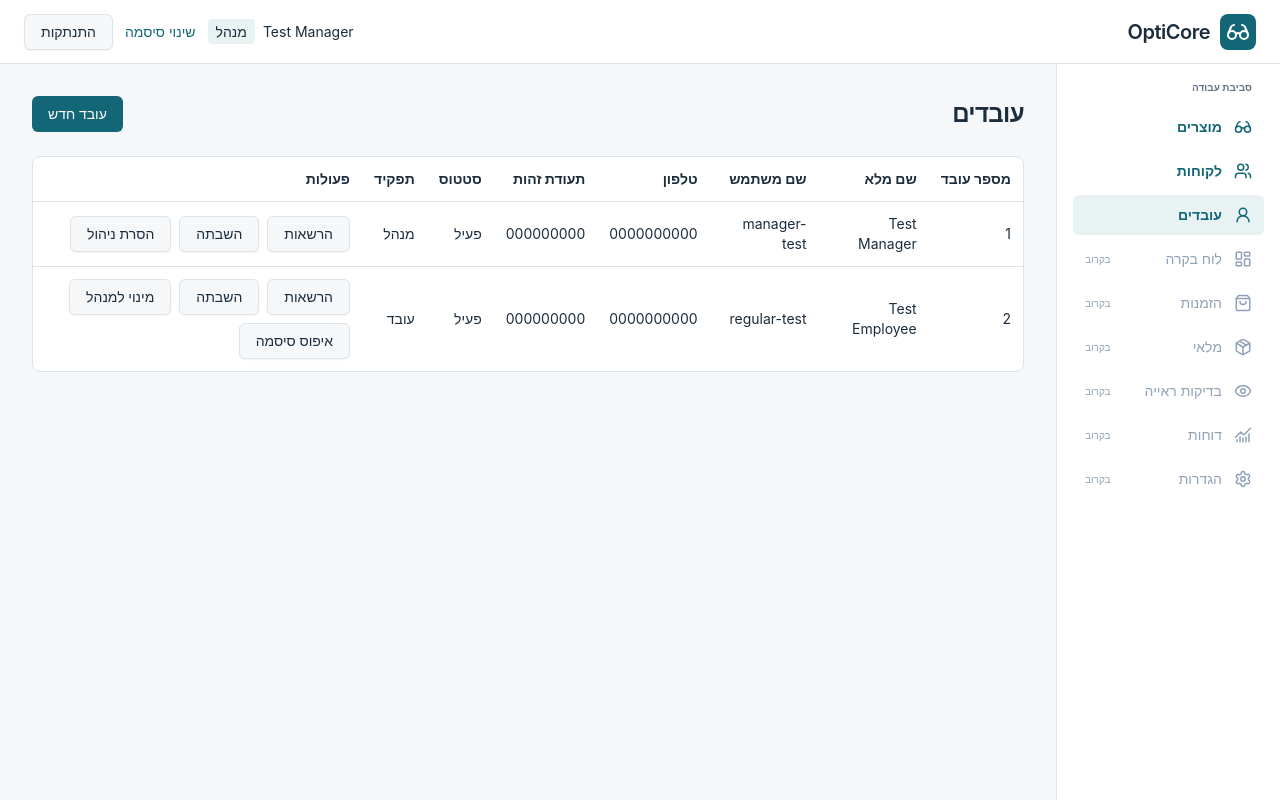
Scenario: shows safe failure feedback without changing assignments 0
Click the button "הרשאות" in the row of "regular-test": click(309, 297) 267,279 -> 350,315
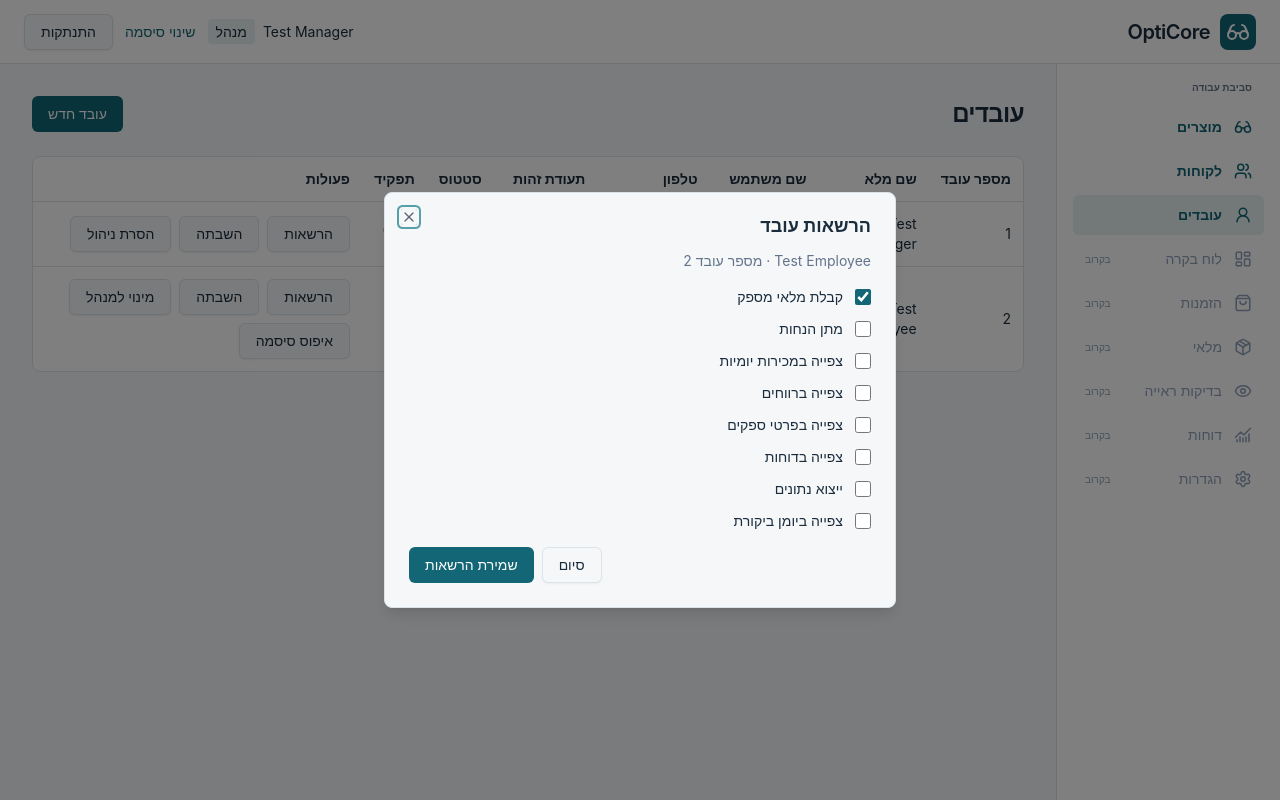
Click the checkbox labelled "צפייה בדוחות": click(863, 457) 855,449 -> 871,465
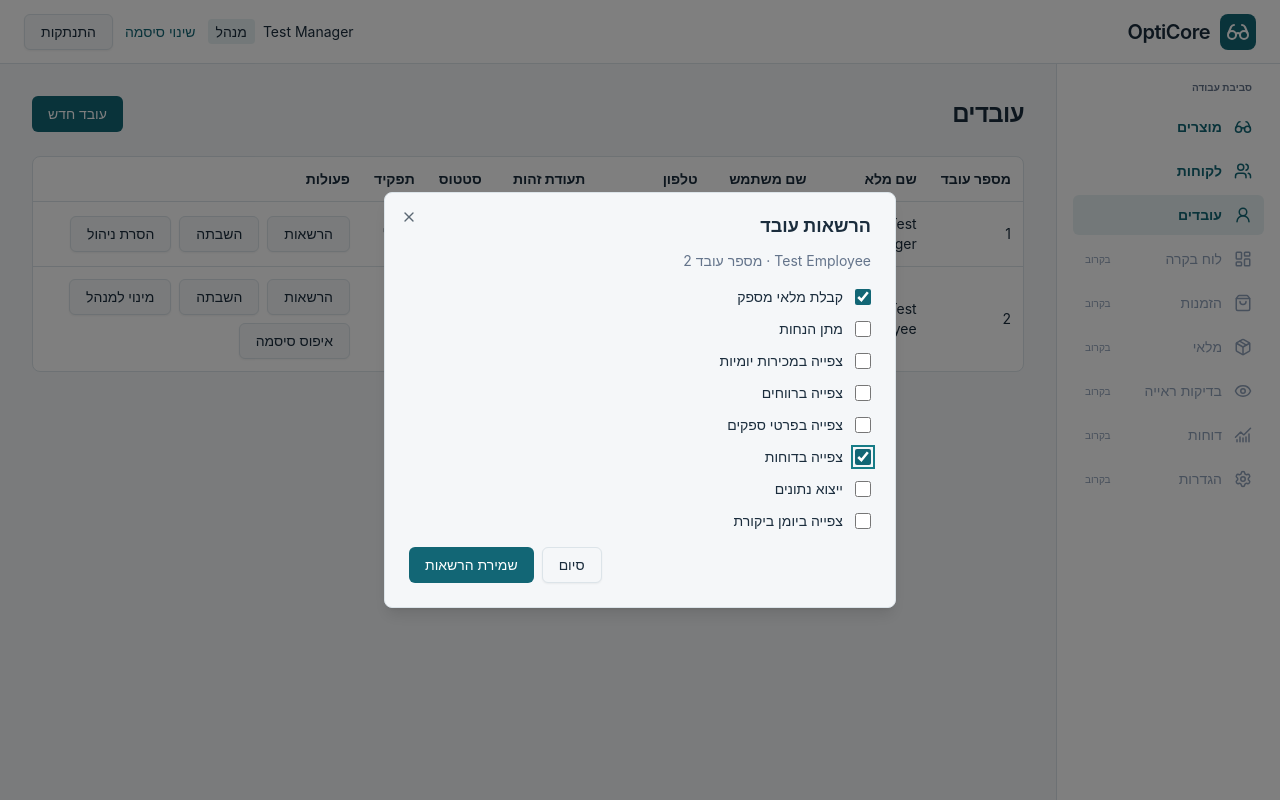
Click the button "שמירת הרשאות": click(471, 565) 409,547 -> 534,583
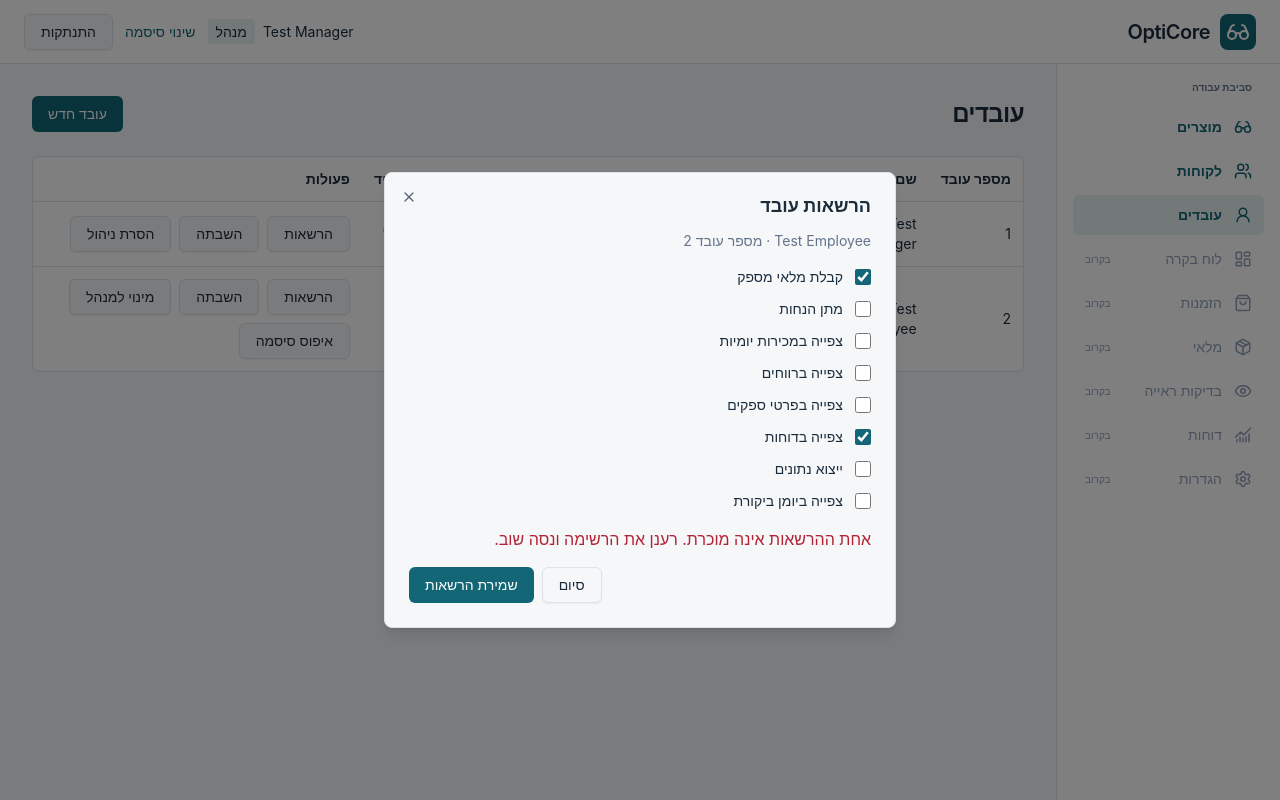
Now the message reads "אחת ההרשאות אינה מוכרת. רענן את הרשימה ונסה שוב.", box 494,529 -> 871,549
